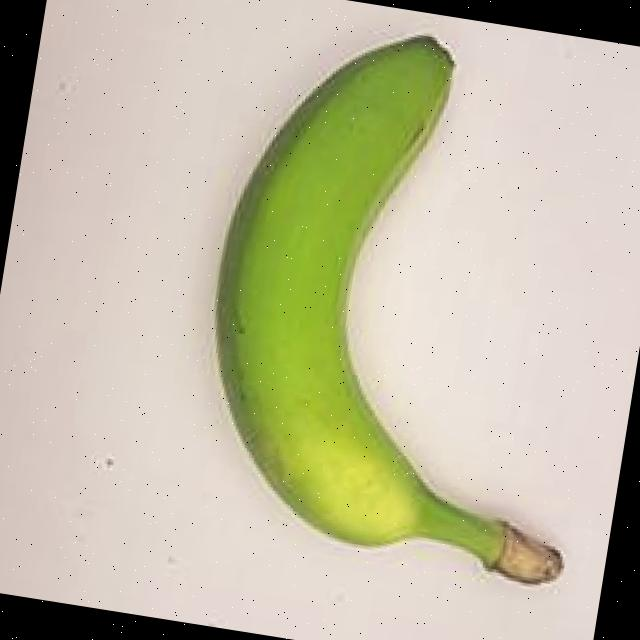Unripe: (125, 0, 640, 639)
